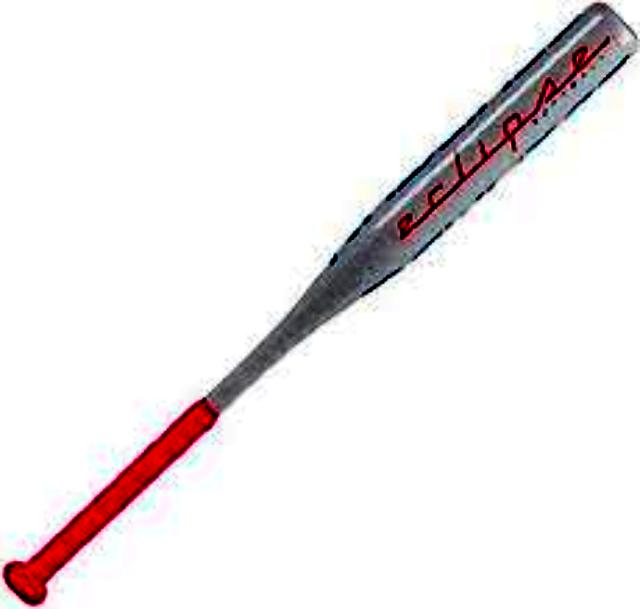baseball bat: (12, 0, 640, 600)
